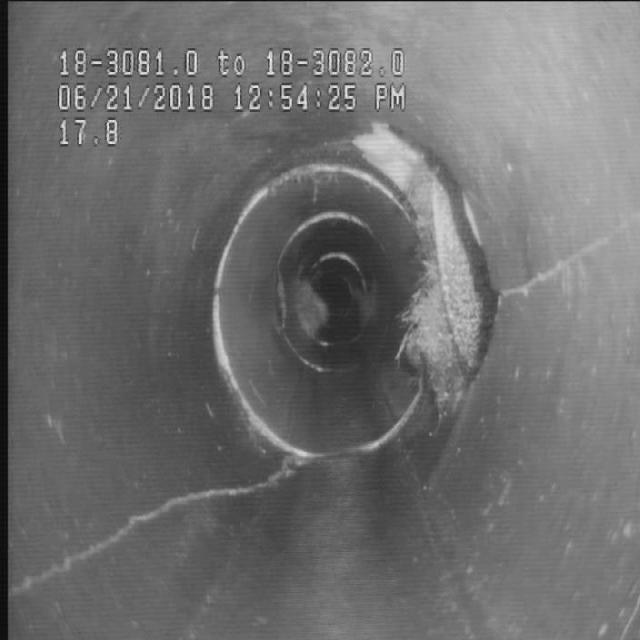Crack: (56, 457, 286, 557)
